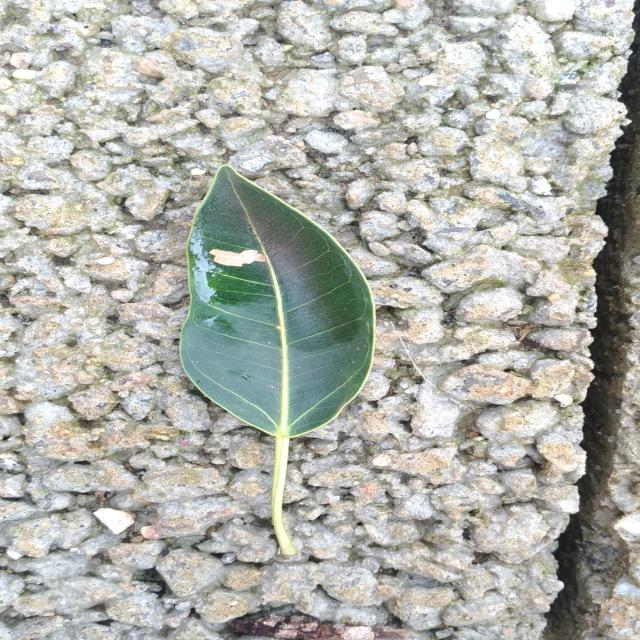camphor: (180, 165, 376, 555)
defected camphor: (182, 191, 373, 361)
